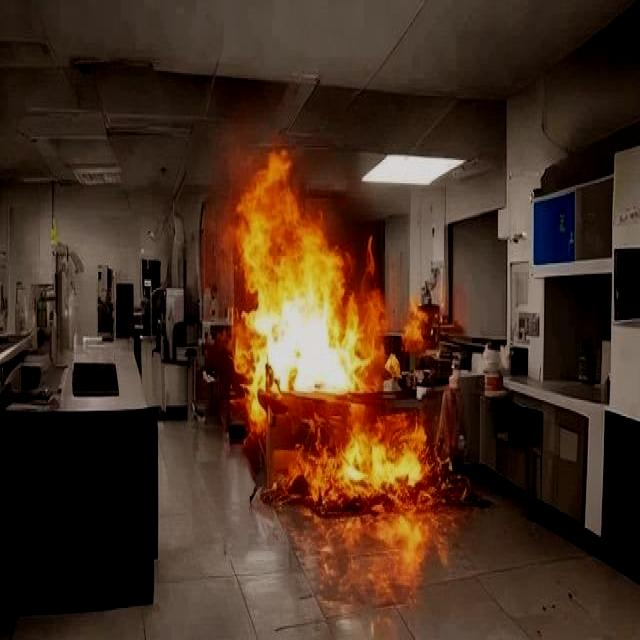fire: (220, 135, 467, 548)
